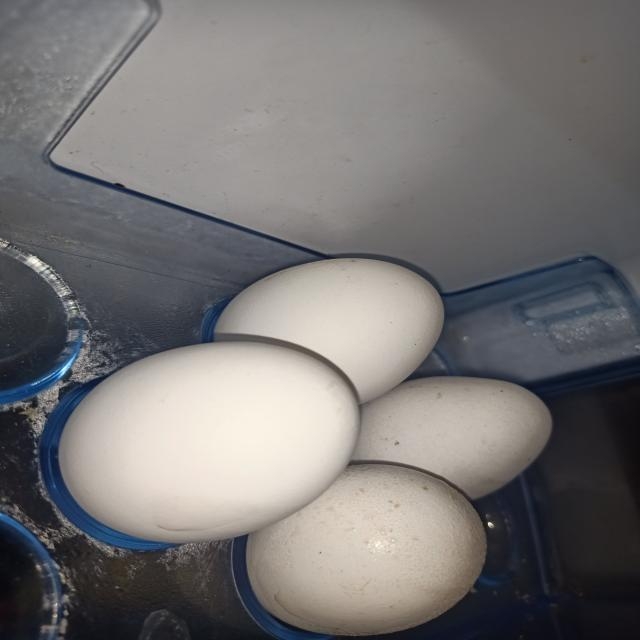Egg: (57, 342, 360, 544), (246, 465, 487, 637), (214, 258, 444, 403), (351, 377, 552, 500)
